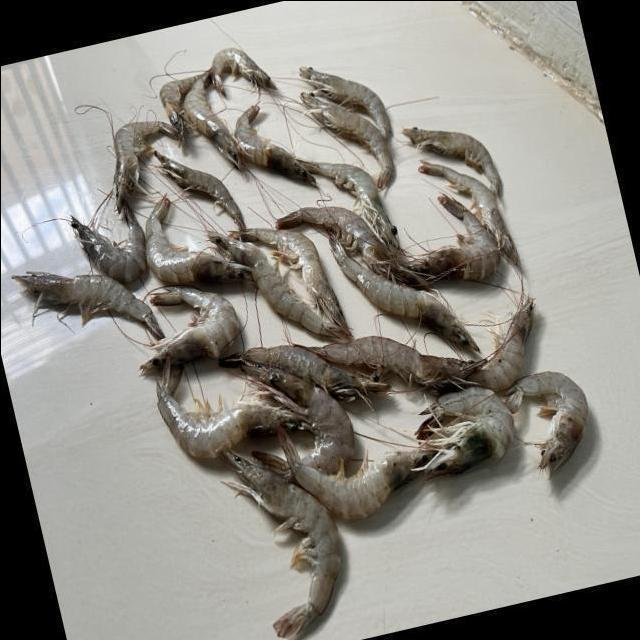shrimp: (219, 450, 339, 639), (327, 233, 479, 352), (154, 351, 306, 459), (206, 232, 350, 340), (276, 427, 426, 520), (275, 206, 426, 286), (230, 228, 346, 330), (418, 161, 520, 271), (10, 272, 162, 340), (500, 370, 588, 477), (143, 197, 250, 284), (267, 368, 353, 475), (299, 92, 392, 189), (416, 387, 513, 478), (303, 161, 399, 251), (139, 286, 237, 374), (307, 336, 486, 384), (218, 345, 387, 395), (401, 127, 500, 202), (414, 195, 499, 280), (152, 150, 243, 229), (298, 66, 389, 140), (232, 105, 314, 186), (466, 299, 534, 391), (68, 202, 144, 283), (181, 75, 245, 171), (111, 120, 174, 212), (208, 47, 275, 97), (157, 76, 193, 140)
